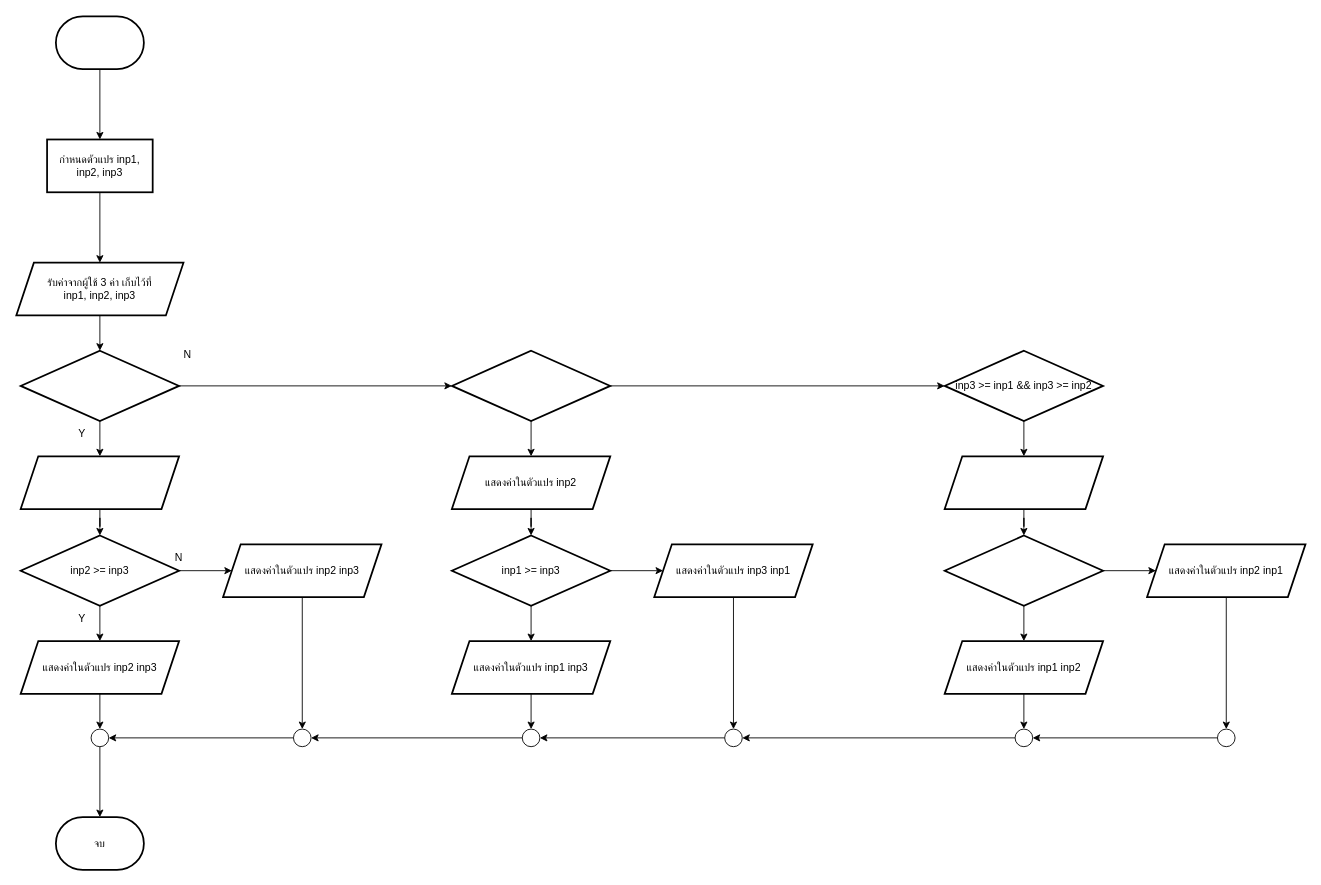
Some shapes in this 1321 by 885 pixel diagram are drawn without their labels. Each missing label, with the box of its shape:
inp1 >= inp2: (943, 534, 1104, 606)
inp1 >= inp2 && inp1 >= inp3: (19, 349, 180, 422)
inp2 >= inp1 && inp2 >= inp3: (451, 349, 611, 422)
เริ่ม: (55, 15, 144, 70)
แสดงค่าในตัวแปร inp1: (19, 455, 180, 510)
แสดงค่าในตัวแปร inp3: (943, 455, 1104, 510)
